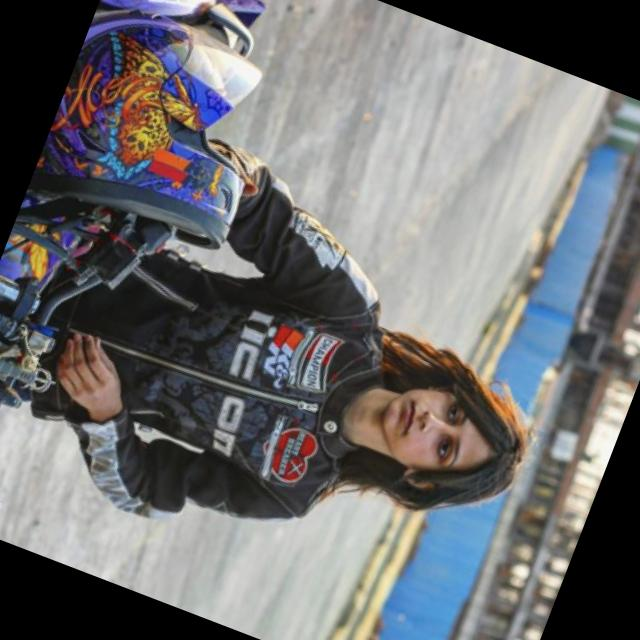bareface: (338, 330, 560, 548)
